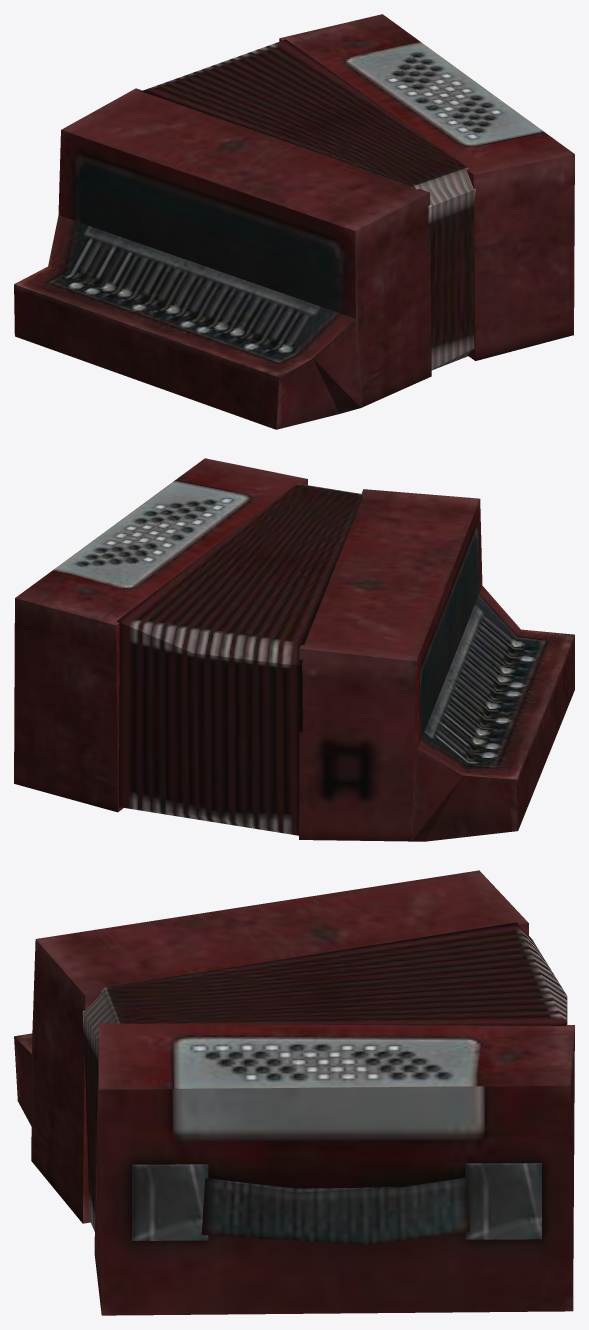
File: accordion.lod1.glb
3 renders of one model, top to bottom at view 1: azimuth 30°, elevation 25°; view 2: azimuth 150°, elevation 25°; view 3: azimuth 270°, elevation 25°, orthographic. The views are drawn at different scales.
Visible parts, largest first — view 1: accordion; view 2: accordion; view 3: accordion.
Boxes of the visible parts, x1,y1,x2,y2 form: accordion: [14, 14, 574, 429]; accordion: [14, 458, 574, 841]; accordion: [14, 870, 574, 1315].
Bounding box in the file's own units: 0.4986 × 0.1948 × 0.421.
1 material, 1 textured.
